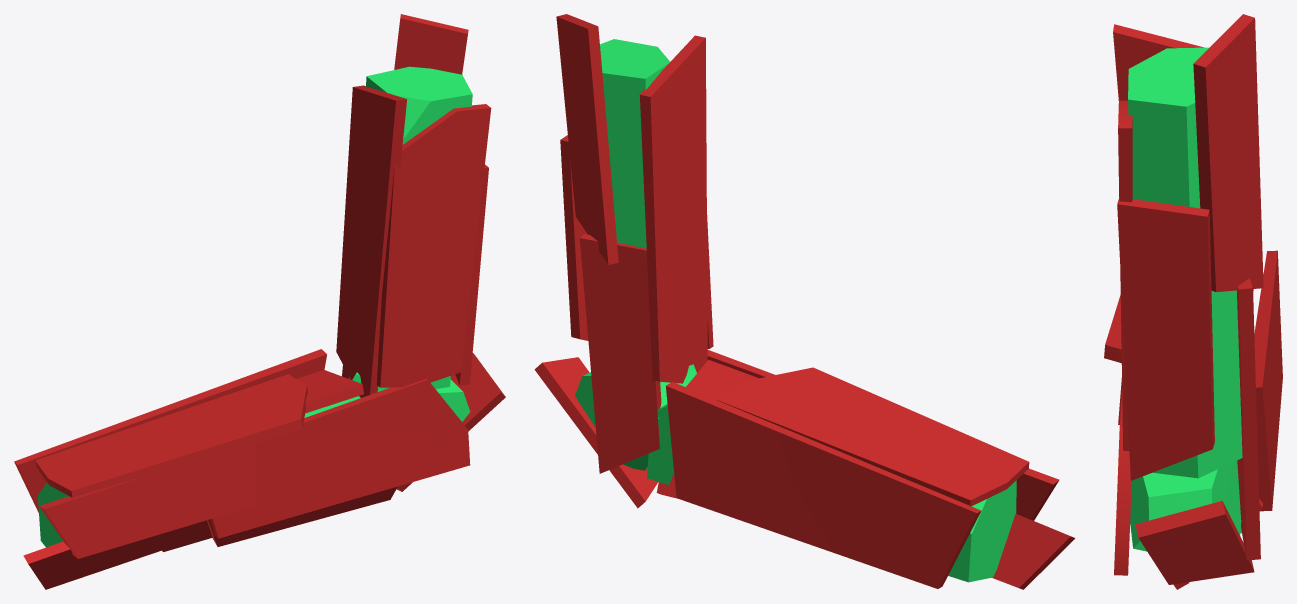
The model's file is SM_branchpart_C.fbx.
3 views of the same model, side by side, from view 1: azimuth 30°, elevation 25°; view 2: azimuth 150°, elevation 25°; view 3: azimuth 270°, elevation 25° (orthographic). The views are drawn at different scales.
Visible parts, largest first — view 1: SM_branchpart_C; view 2: SM_branchpart_C; view 3: SM_branchpart_C.
Boxes of the visible parts, x1,y1,x2,y2 form: SM_branchpart_C: (14,14,505,589); SM_branchpart_C: (534,14,1075,589); SM_branchpart_C: (1104,14,1282,589).
Size of the model in its own units: 74.14 by 68.01 by 18.19.
